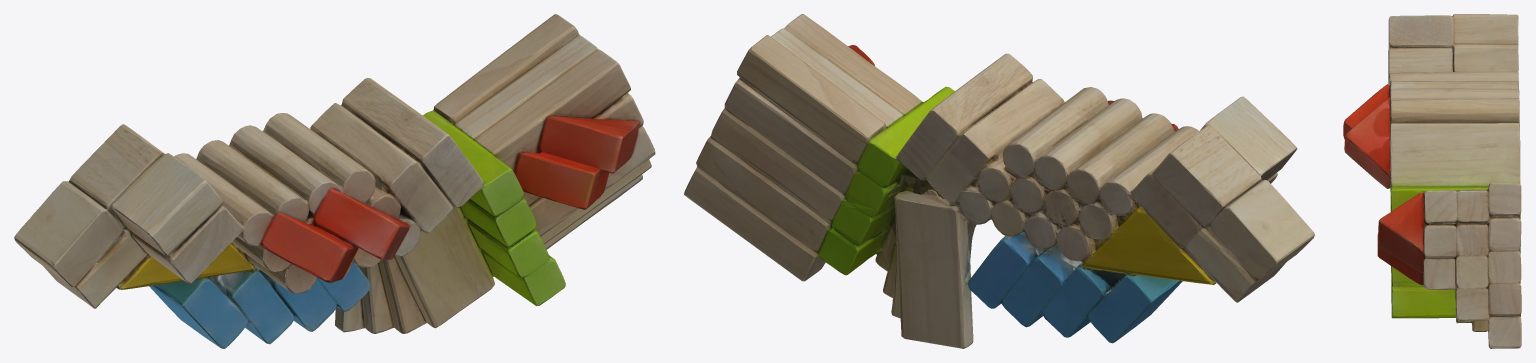
The model's file is blocks.glb.
3 renders of one model, left to right at view 1: azimuth 30°, elevation 25°; view 2: azimuth 150°, elevation 25°; view 3: azimuth 270°, elevation 25°, orthographic. The views are drawn at different scales.
Visible parts, largest first — view 1: geometry_0; view 2: geometry_0; view 3: geometry_0.
Boxes of the visible parts, bbox=[...] form: geometry_0: bbox=[14, 14, 655, 348]; geometry_0: bbox=[684, 14, 1314, 348]; geometry_0: bbox=[1343, 14, 1521, 348].
Bounding box in the file's own units: 1 × 0.4105 × 0.3107.
Materials: 1 (1 with a texture image).
